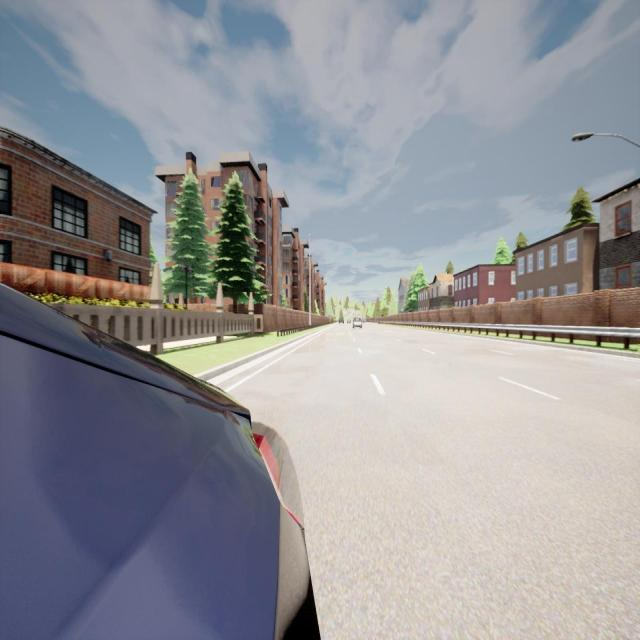Vehicle: (0, 284, 318, 637), (352, 317, 362, 329), (358, 314, 366, 324), (338, 317, 344, 324), (347, 319, 351, 324)
